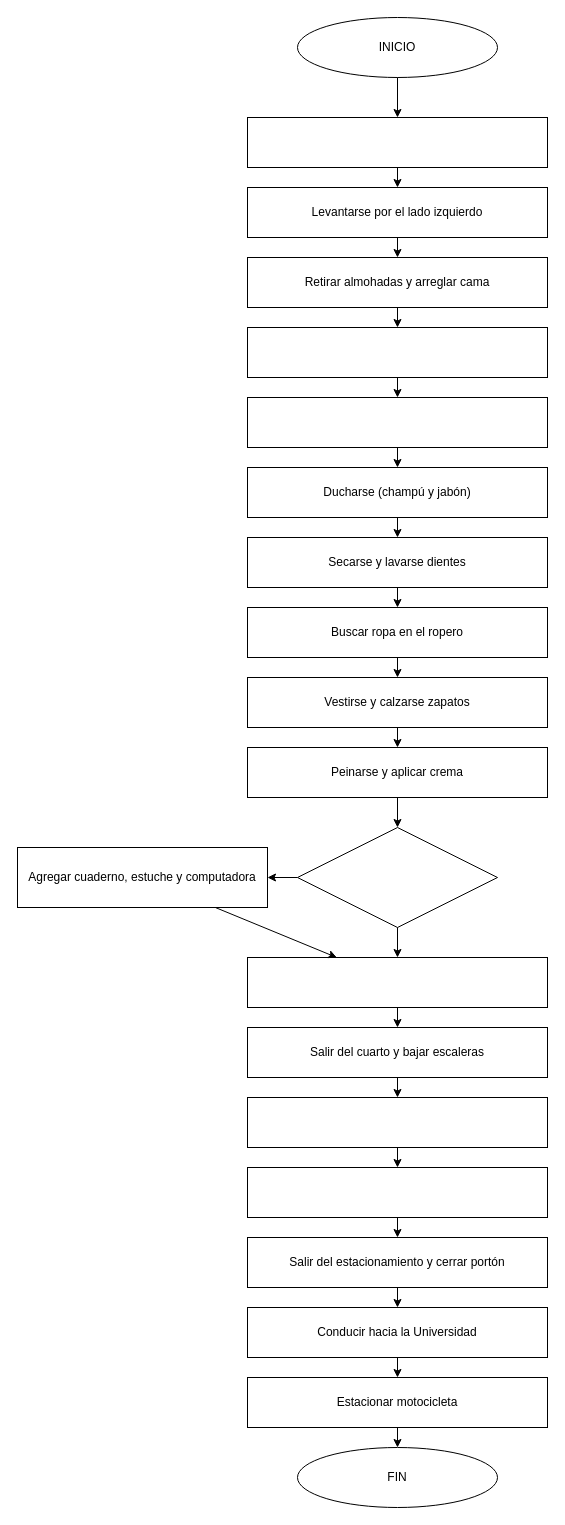
This 565x1525 diagram has some shape labels left out. The box of each missing label's shape, as (x1, y1, x2, y2) in pixels:
Despertar en la cama: (246, 116, 548, 168)
Encender motocicleta y esperar calentamiento: (246, 1166, 548, 1218)
Ir al baño: (246, 326, 548, 378)
Lavarse manos y enjuagarse boca: (246, 396, 548, 448)
Tomar casco y abrir estacionamiento: (246, 1096, 548, 1148)
Tomar mochila: (246, 956, 548, 1008)
¿Mochila equipada?: (296, 826, 498, 928)
